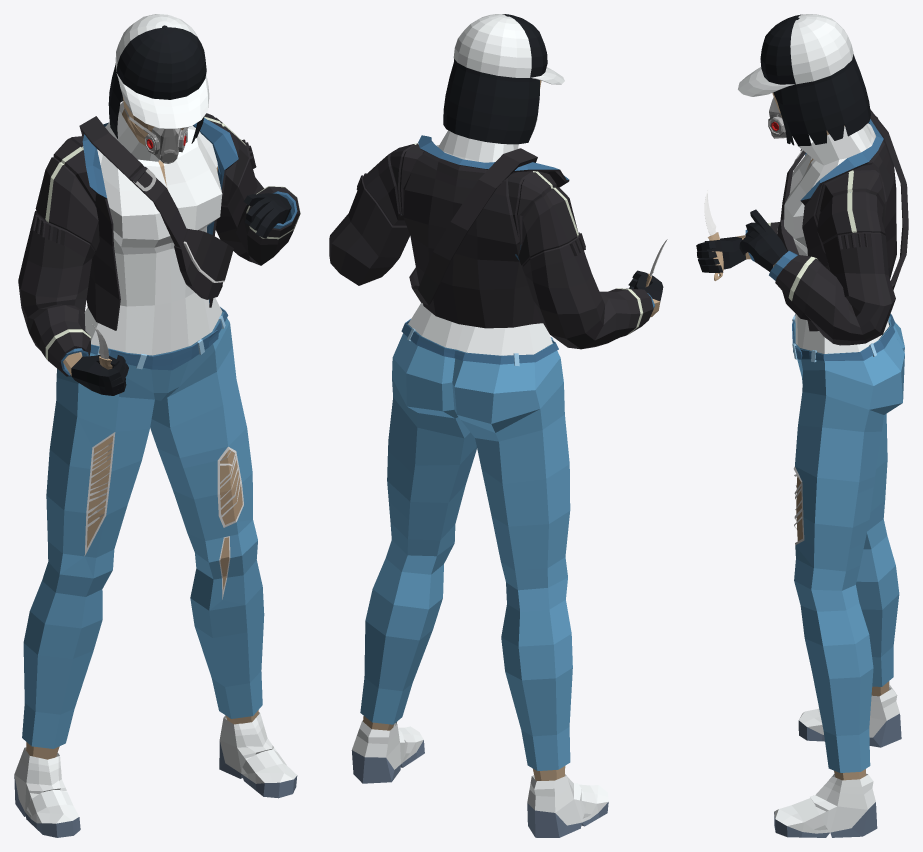
The picture shows the model from 3 angles, left to right: view 1: azimuth 30°, elevation 25°; view 2: azimuth 150°, elevation 25°; view 3: azimuth 270°, elevation 25°; orthographic projection. The views are drawn at different scales.
Visible parts, largest first — view 1: base_mesh_Cube.001; view 2: base_mesh_Cube.001; view 3: base_mesh_Cube.001, Plane.002_Plane.008.
Part boxes in pixels (box(x1,y1,x2,y2)): base_mesh_Cube.001: box(14, 14, 300, 837); base_mesh_Cube.001: box(329, 14, 663, 837); base_mesh_Cube.001: box(696, 14, 908, 837); Plane.002_Plane.008: box(704, 189, 723, 280).
Bounding box in the file's own units: 0.6601 × 1.79 × 0.4545.
